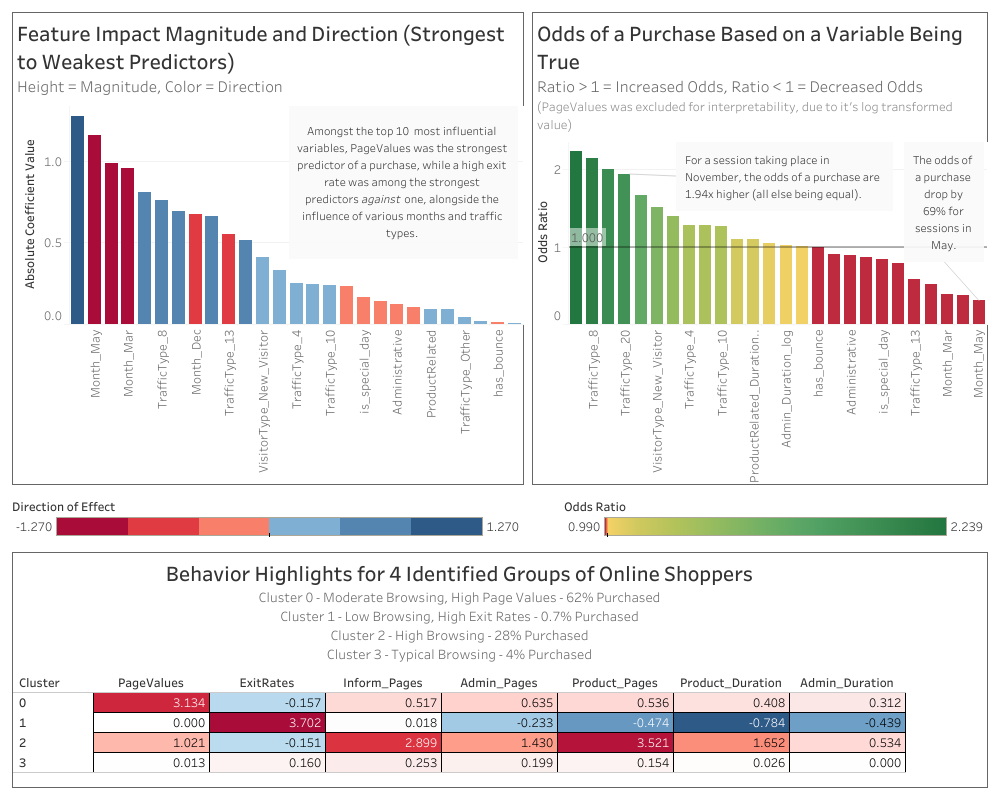

The page's visual inventory and layout, read from the dashboard file:
{"tool":"tableau","page":{"name":"Dashboard 1","canvas":[650,860],"ordinal":0},"visuals":[{"type":"worksheet","title":"Sheet 2","mark":"Automatic","rows":["Revenue"],"cols":["VisitorType"],"box":[8,11,634,344.8]},{"type":"worksheet","title":"Sheet 3","mark":"Automatic","rows":["Revenue"],"cols":["Month"],"box":[8,355.8,317,493.2]},{"type":"worksheet","title":"Sheet 1","mark":"Automatic","box":[325,355.8,317,119.5]},{"type":"worksheet","title":"Sheet 4","mark":"Automatic","rows":["PageValues"],"cols":["Revenue_Label"],"box":[325,475.3,317,373.7]}]}

Visuals, with their boxes on the page's 650x860 design canvas (x1, y1, x2, y2). These are canvas units, not pixel positions in the 999x799 screenshot, which may show the page scaled, cropped or inside an application window:
"Sheet 2" worksheet: 8:11:642:356
"Sheet 3" worksheet: 8:356:325:849
"Sheet 1" worksheet: 325:356:642:475
"Sheet 4" worksheet: 325:475:642:849
